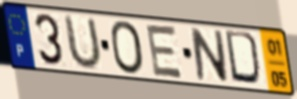3: (33, 12, 66, 68)
D: (223, 29, 266, 90)
E: (144, 22, 186, 81)
N: (189, 26, 230, 86)
O: (108, 19, 147, 76)
U: (63, 13, 104, 72)
